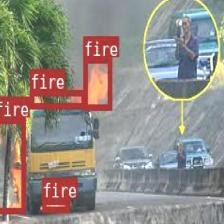fire: (0, 116, 24, 212), (82, 57, 111, 108), (29, 90, 84, 108), (41, 198, 69, 211)
